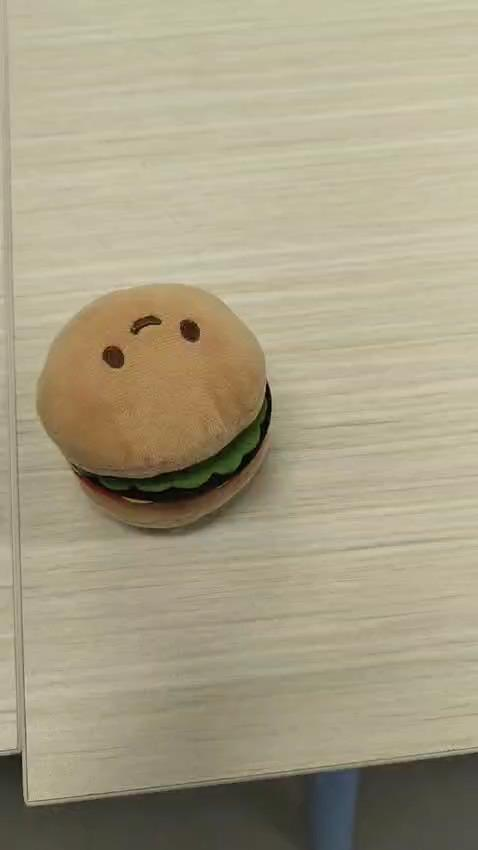hamburger: (34, 281, 273, 531)
